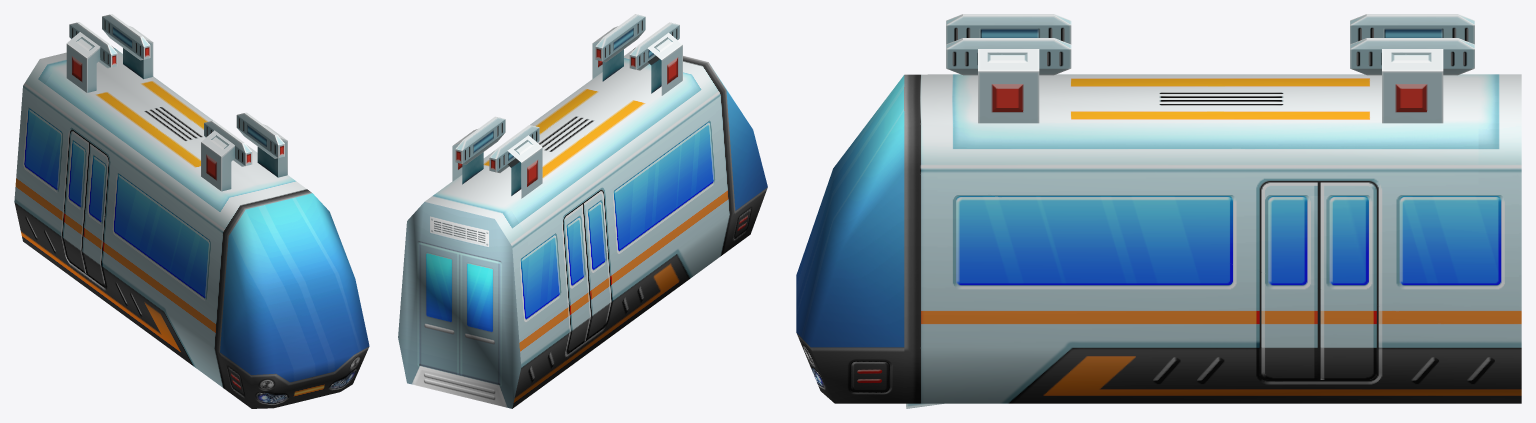
The model's file is Monotrain_Head_White.fbx.
3 views of the same model, side by side, from view 1: azimuth 30°, elevation 25°; view 2: azimuth 150°, elevation 25°; view 3: azimuth 270°, elevation 25° (orthographic). The views are drawn at different scales.
Parts seen in each view (by area): view 1: Monotrain_Head_White; view 2: Monotrain_Head_White; view 3: Monotrain_Head_White.
Part boxes in pixels (<box>): Monotrain_Head_White: <box>14,14,369,408</box>; Monotrain_Head_White: <box>398,14,767,408</box>; Monotrain_Head_White: <box>796,14,1521,408</box>.
Bounding box in the file's own units: 531 × 1049 × 1878.
